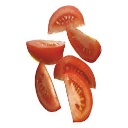tomato: (62, 69, 94, 122), (54, 55, 100, 89), (65, 22, 102, 63), (35, 63, 60, 113), (25, 38, 67, 65), (48, 5, 87, 34)
